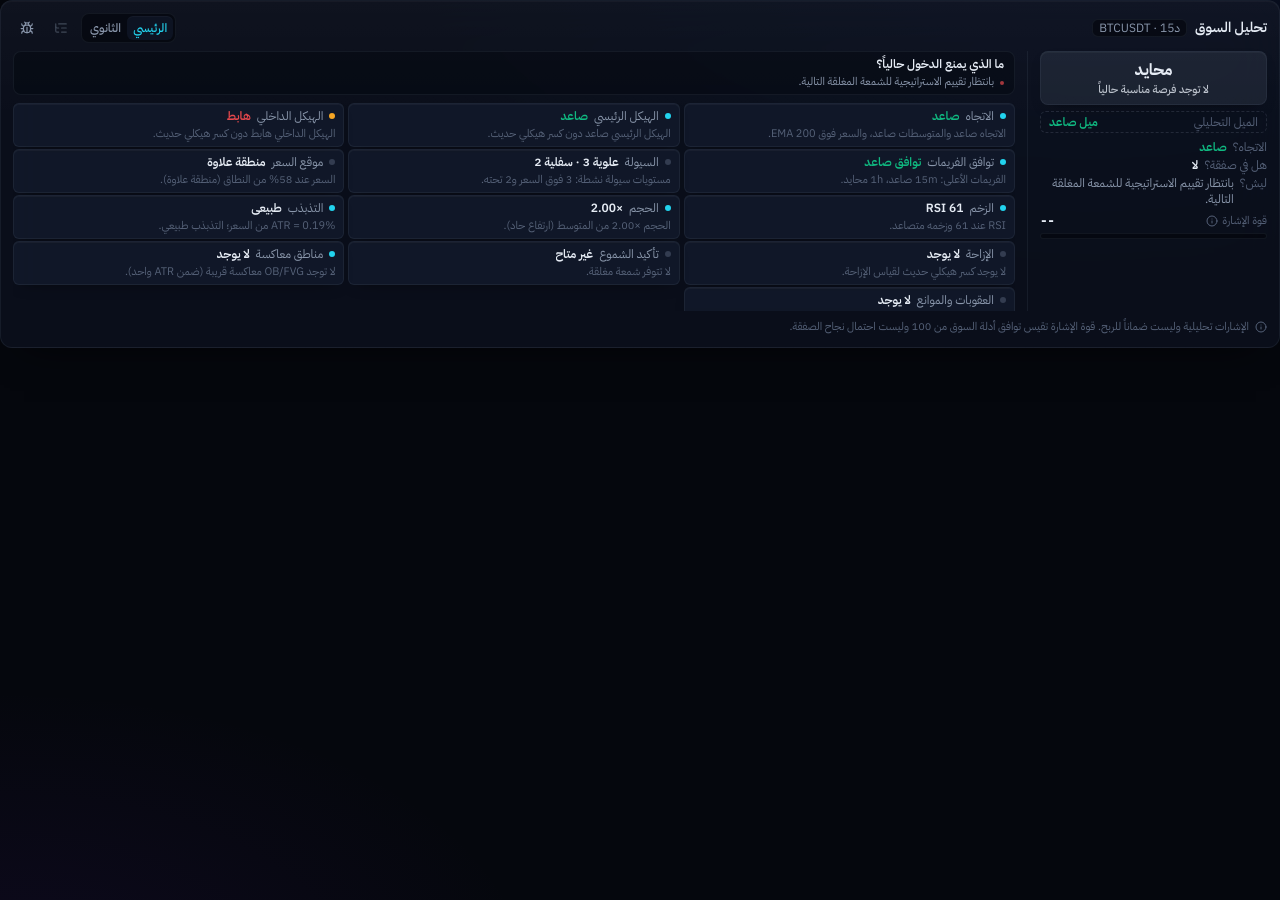
SignalPanel (analysis) › switches between the primary and secondary chart analysis
What coordinates should you click on to do the following:
click the radio button labelled "الثانوي"
I would click on:
 (106, 28)
Its box is [84,16,127,40].
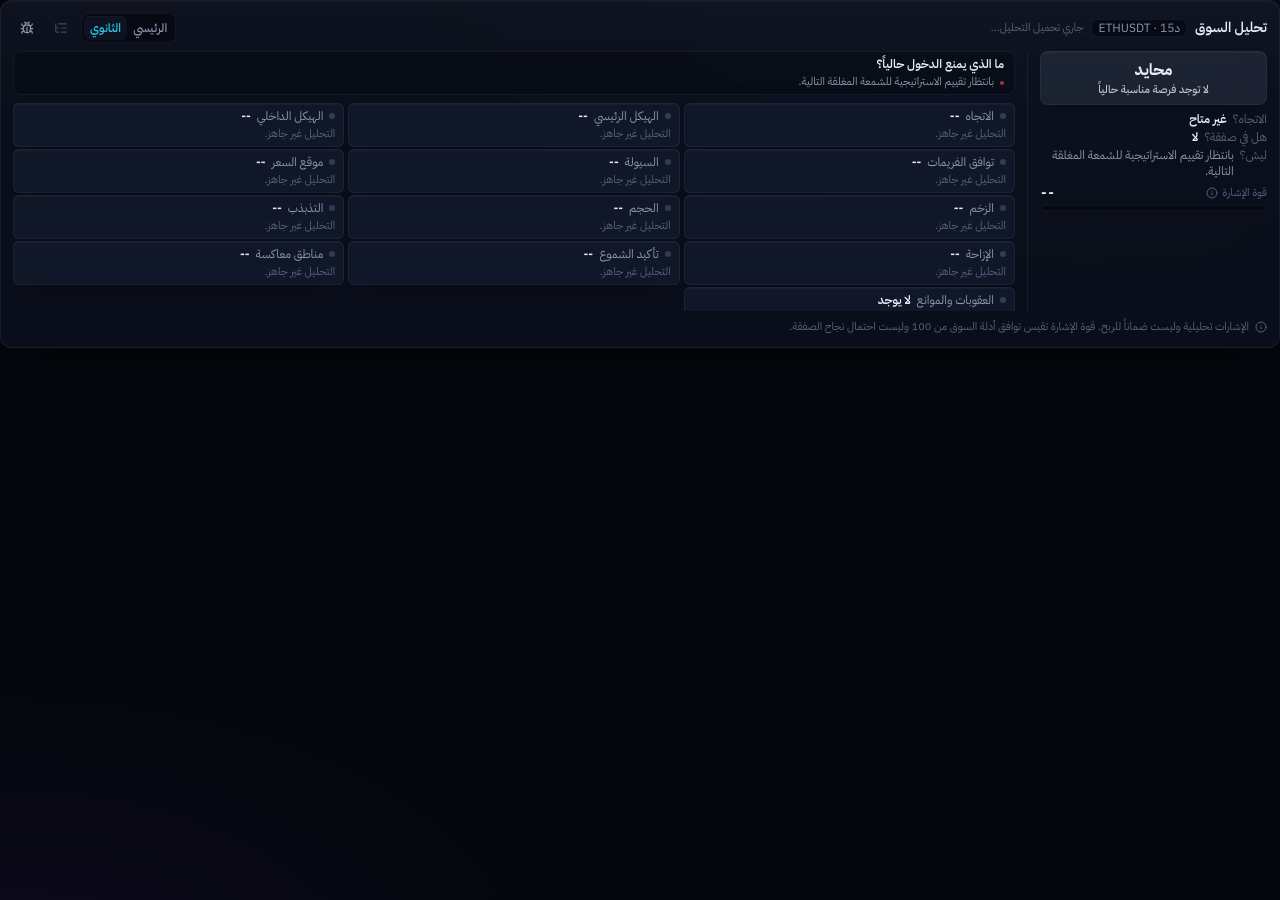
Expected: the message shows "جاري تحميل التحليل", [991,19,1084,36]
Expected: the text with test id "analysis-context" shows "ETHUSDT", [1098,19,1150,37]
